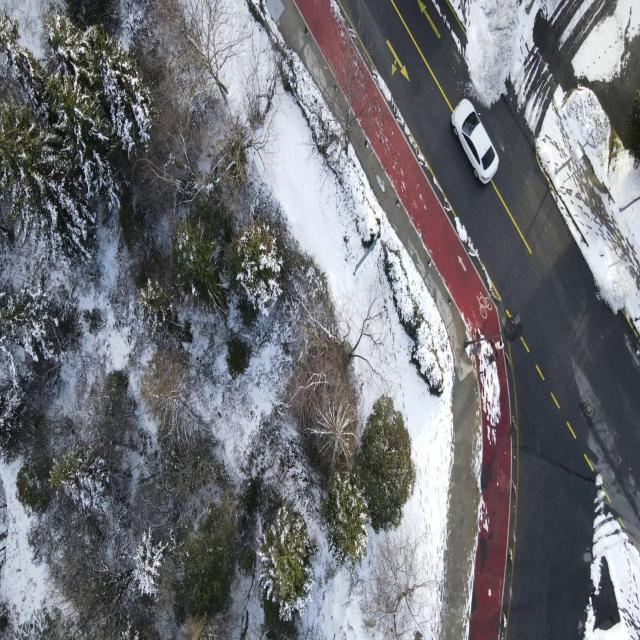p3rson: (492, 338, 504, 356), (486, 352, 497, 364)
